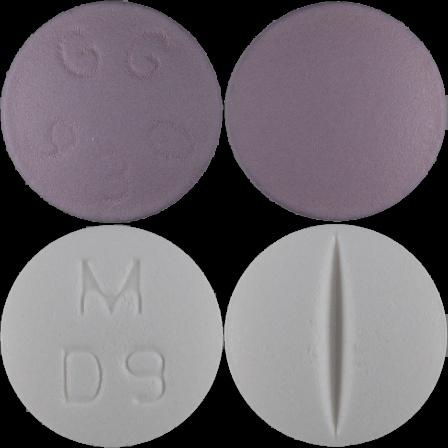0615-5535: (0, 0, 224, 224)
